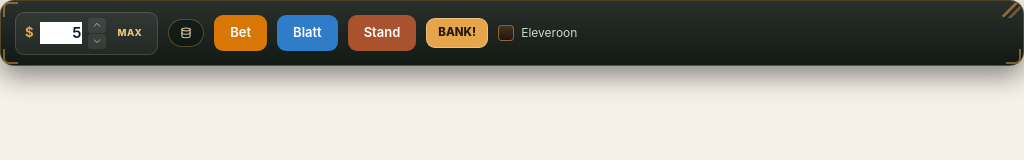
Test: PlayerDock MAX button › fills in the bank's cap exactly, even though that lands on a bank-lock
This screenshot has width=1024, height=160.
Click the button "MAX".
click(130, 33)  # box [112,23,148,43]
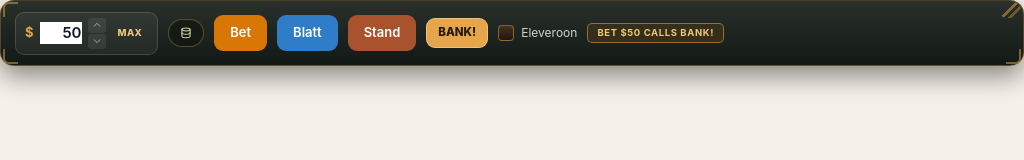
Expected: the number field named "Bet amount" holds "50", [40,22,82,44]
Expected: the text "Bet $50 calls BANK!" is shown, [587,23,724,43]
